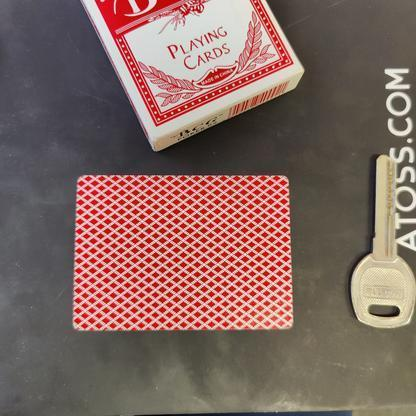card: (63, 166, 302, 341)
